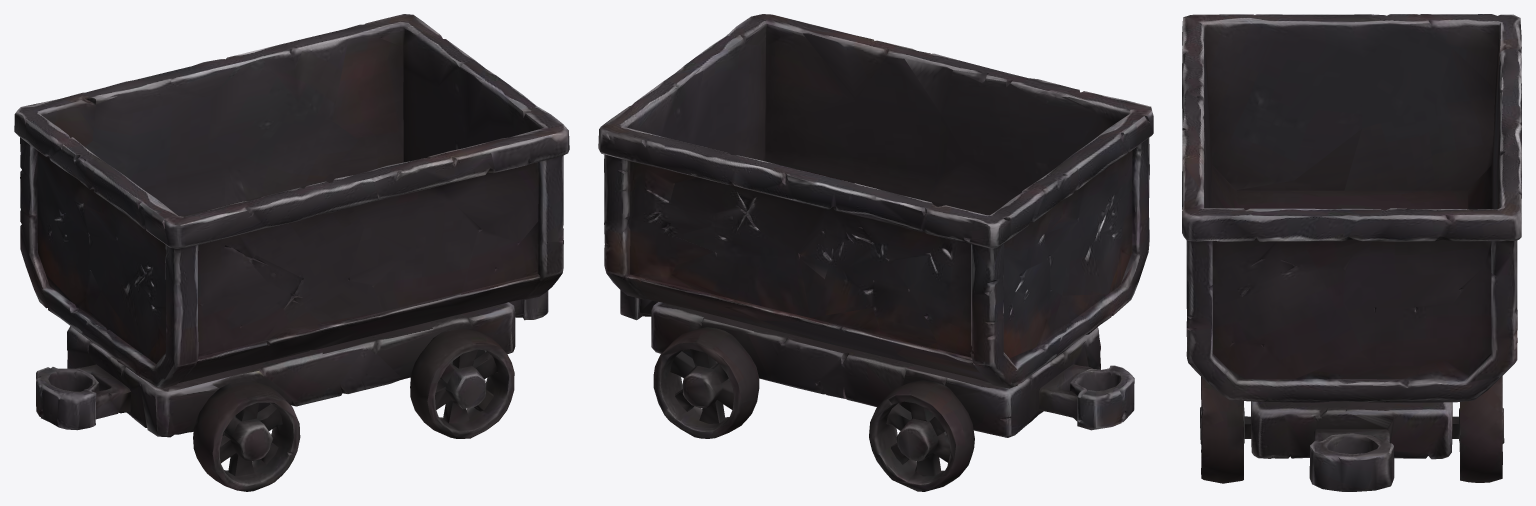
The model's file is mine_cart_ore_idle.glb.
3 views of the same model, side by side, from view 1: azimuth 30°, elevation 25°; view 2: azimuth 150°, elevation 25°; view 3: azimuth 270°, elevation 25° (orthographic). The views are drawn at different scales.
Parts seen in each view (by area): view 1: tripo_node_7073f220-9713-4955-abd9-543d966ea76b; view 2: tripo_node_7073f220-9713-4955-abd9-543d966ea76b; view 3: tripo_node_7073f220-9713-4955-abd9-543d966ea76b.
Part boxes in pixels (<box>): tripo_node_7073f220-9713-4955-abd9-543d966ea76b: <box>14,14,569,491</box>; tripo_node_7073f220-9713-4955-abd9-543d966ea76b: <box>598,14,1153,491</box>; tripo_node_7073f220-9713-4955-abd9-543d966ea76b: <box>1182,14,1521,491</box>.
Bounding box in the file's own units: 2.12 × 1.2 × 1.2.
Materials: 1 (1 with a texture image).
